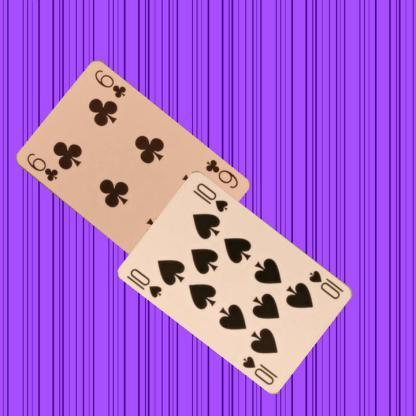10s: (127, 266, 164, 300), (307, 268, 344, 300)
6c: (202, 156, 239, 191), (24, 150, 59, 183)
